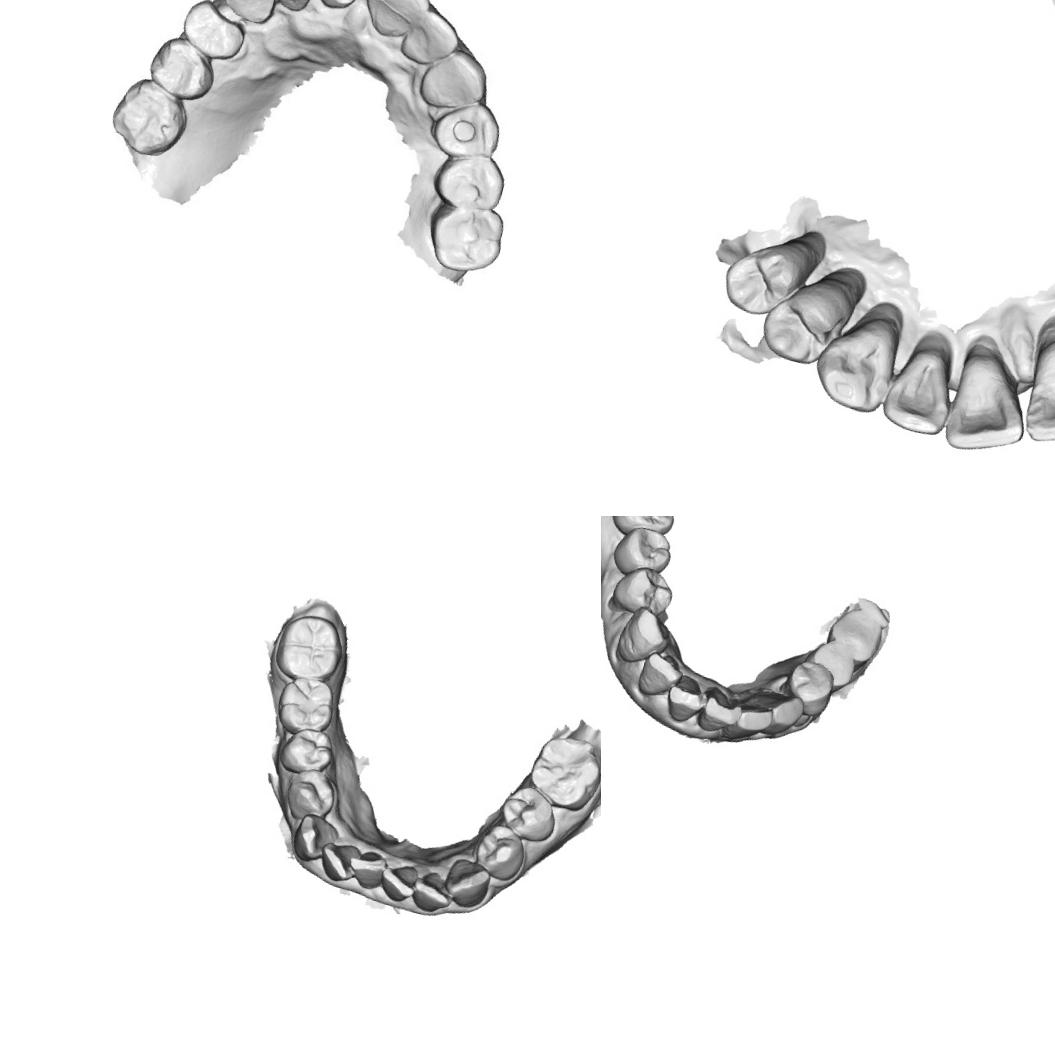canine: (808, 305, 902, 417), (414, 43, 494, 118), (610, 599, 676, 672), (287, 809, 343, 868), (438, 854, 494, 912), (751, 687, 808, 740), (216, 0, 284, 29)
incisor: (940, 341, 1043, 465), (878, 334, 962, 440), (1016, 333, 1055, 458), (402, 6, 459, 65), (633, 646, 687, 704), (660, 669, 710, 727), (405, 865, 459, 918), (693, 682, 743, 738), (363, 0, 433, 39), (313, 835, 364, 886), (729, 693, 776, 747), (342, 844, 390, 893), (374, 857, 421, 906), (301, 0, 375, 16), (264, 0, 320, 15)
molar: (103, 70, 194, 164), (420, 196, 510, 280), (521, 727, 601, 817), (268, 606, 350, 688), (270, 670, 341, 743), (820, 601, 889, 671), (604, 516, 684, 546)
premolar: (715, 232, 807, 324), (753, 280, 844, 372), (428, 144, 510, 216), (427, 94, 506, 166), (144, 31, 218, 103), (492, 778, 562, 847), (606, 558, 679, 622), (608, 520, 678, 584), (468, 818, 533, 886), (178, 0, 247, 63), (278, 762, 342, 828), (780, 655, 839, 719), (274, 722, 338, 780), (800, 638, 858, 692)
